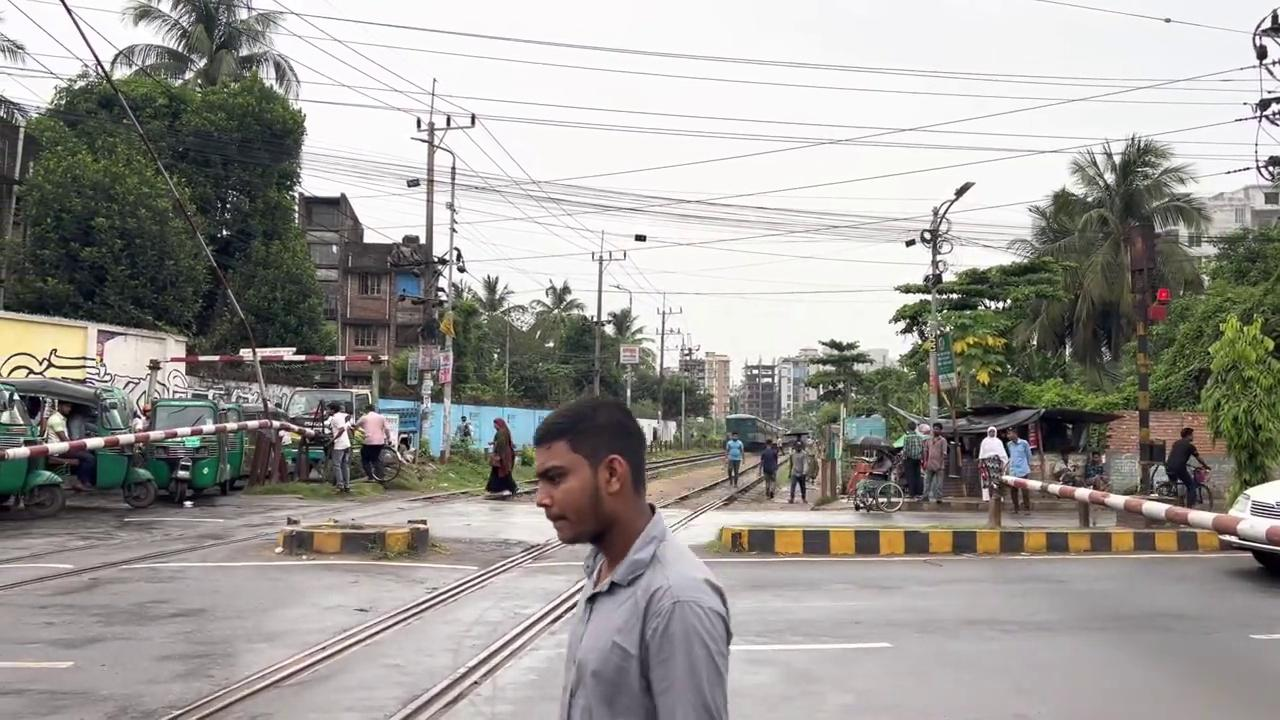Bollard: (1216, 477, 1279, 571)
Car: (718, 523, 1226, 556)
Fence: (532, 396, 733, 718), (43, 400, 96, 491), (1164, 427, 1211, 507), (352, 403, 392, 481), (484, 417, 518, 497), (724, 431, 744, 487)
Garbage: (908, 180, 976, 478)
Motorcycle: (157, 444, 789, 718)
Railroad-crossing: (1007, 130, 1213, 395), (1197, 310, 1279, 511)
Rickshaw: (0, 375, 159, 517)
